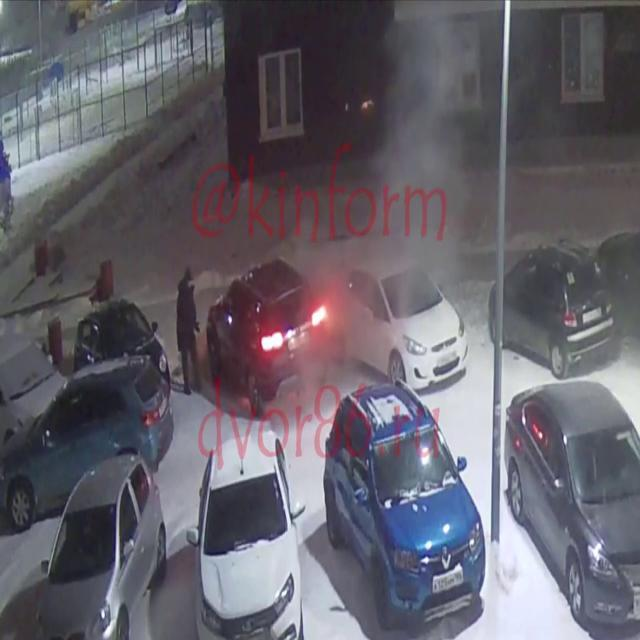Smoke: (344, 0, 512, 336)
